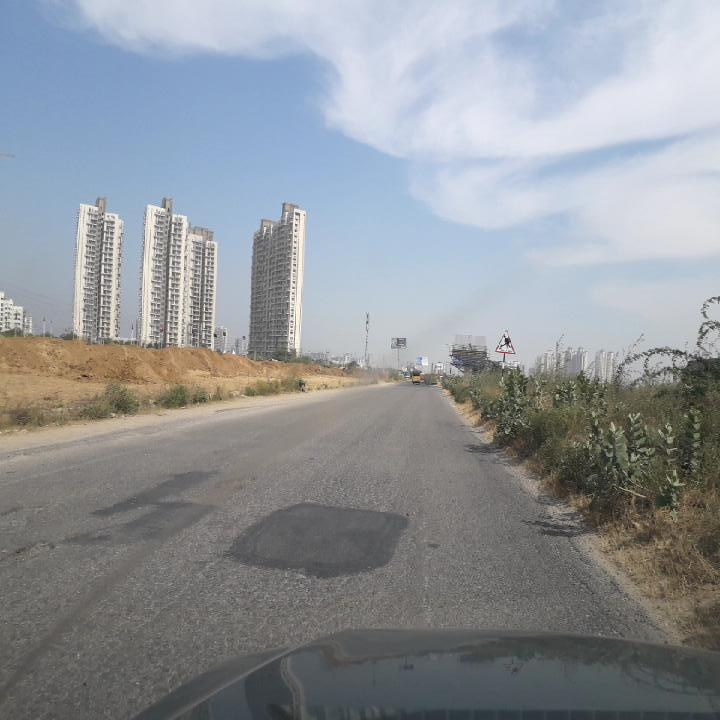Sambungan: (225, 497, 408, 581)
